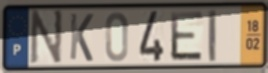0: (104, 10, 130, 64)
4: (137, 9, 166, 64)
E: (169, 9, 205, 63)
I: (207, 8, 218, 64)
K: (68, 12, 95, 64)
N: (28, 8, 65, 67)
